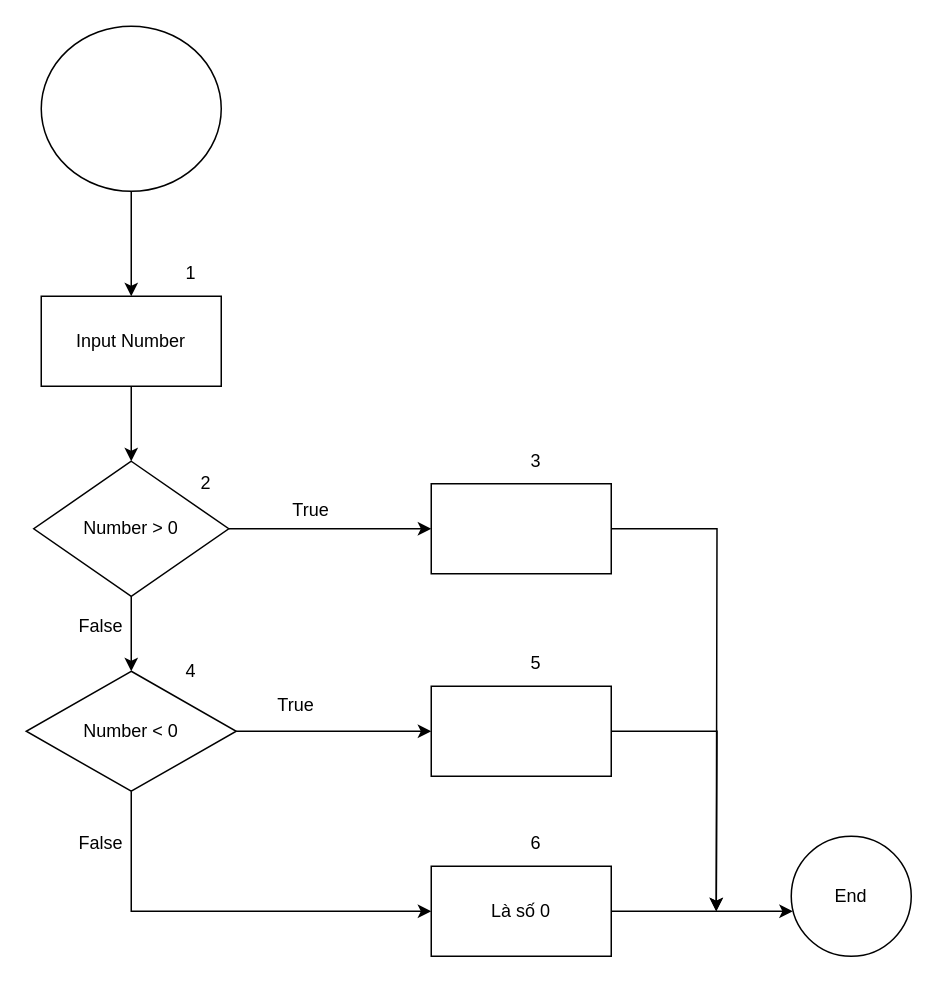
This 938x983 diagram has some shape labels left out. The centre of each missing label's shape, as x and y in pixels:
"Là số dương" belongs at (520,528).
"Là số âm" belongs at (520,730).
"Start" belongs at (130,108).
